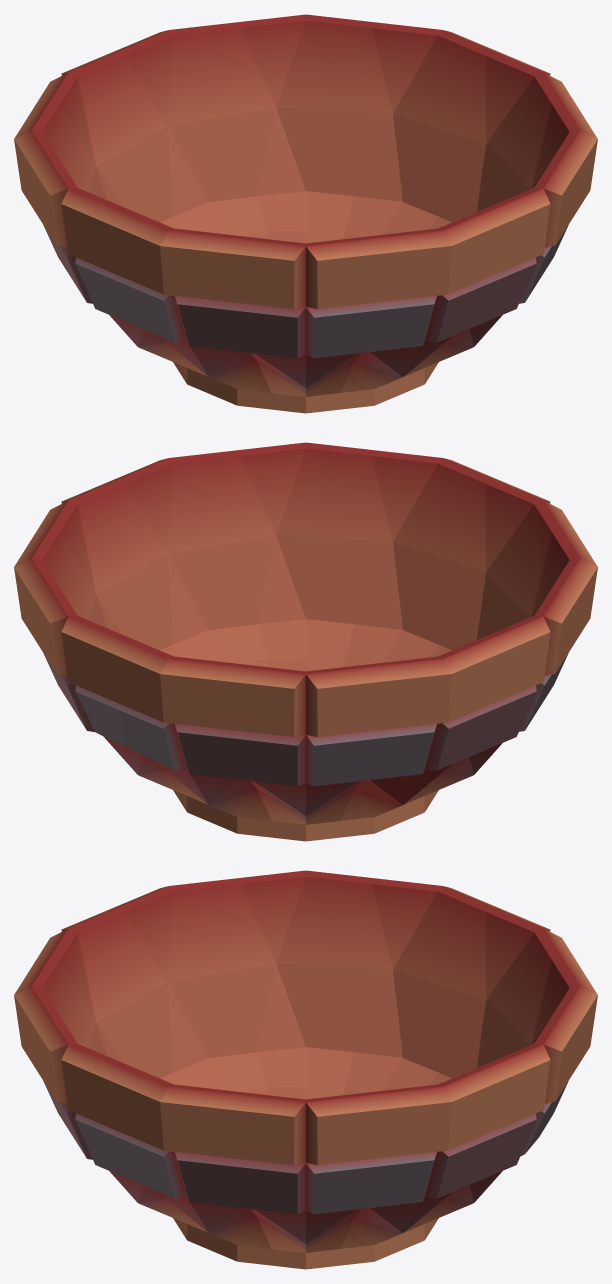
The model's file is ENV_Relic_00_Pottery.fbx.
3 renders of one model, top to bottom at view 1: azimuth 30°, elevation 25°; view 2: azimuth 150°, elevation 25°; view 3: azimuth 270°, elevation 25°, orthographic.
Parts seen in each view (by area): view 1: ENV_Relic_00_Pottery; view 2: ENV_Relic_00_Pottery; view 3: ENV_Relic_00_Pottery.
Part boxes in pixels (x1,y1,x2,y2): ENV_Relic_00_Pottery: (14,14,597,413); ENV_Relic_00_Pottery: (14,442,597,841); ENV_Relic_00_Pottery: (14,870,597,1269).
Size of the model in its own units: 80.03 by 34.4 by 80.88.
